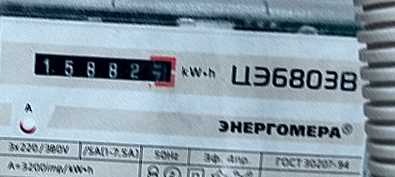1: (40, 55, 51, 74)
2: (128, 61, 140, 79)
5: (62, 58, 74, 76)
7: (149, 69, 161, 81)
8: (83, 59, 96, 77), (106, 60, 118, 79)
screen: (24, 41, 182, 95)
